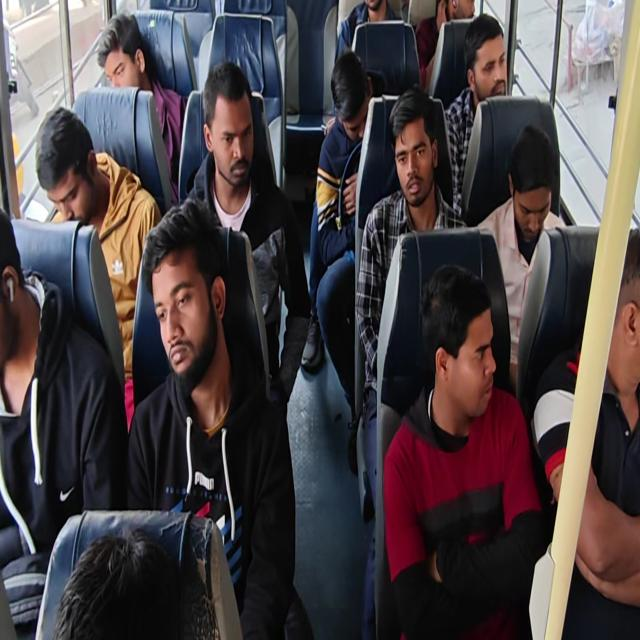person: (49, 505, 211, 640), (146, 214, 248, 418), (416, 270, 514, 434), (388, 87, 457, 219), (31, 100, 102, 225), (202, 63, 257, 206), (597, 231, 640, 412), (508, 118, 562, 247), (89, 8, 155, 102), (467, 17, 523, 102), (0, 196, 25, 360), (327, 53, 374, 140), (438, 0, 484, 29), (358, 0, 393, 35)
